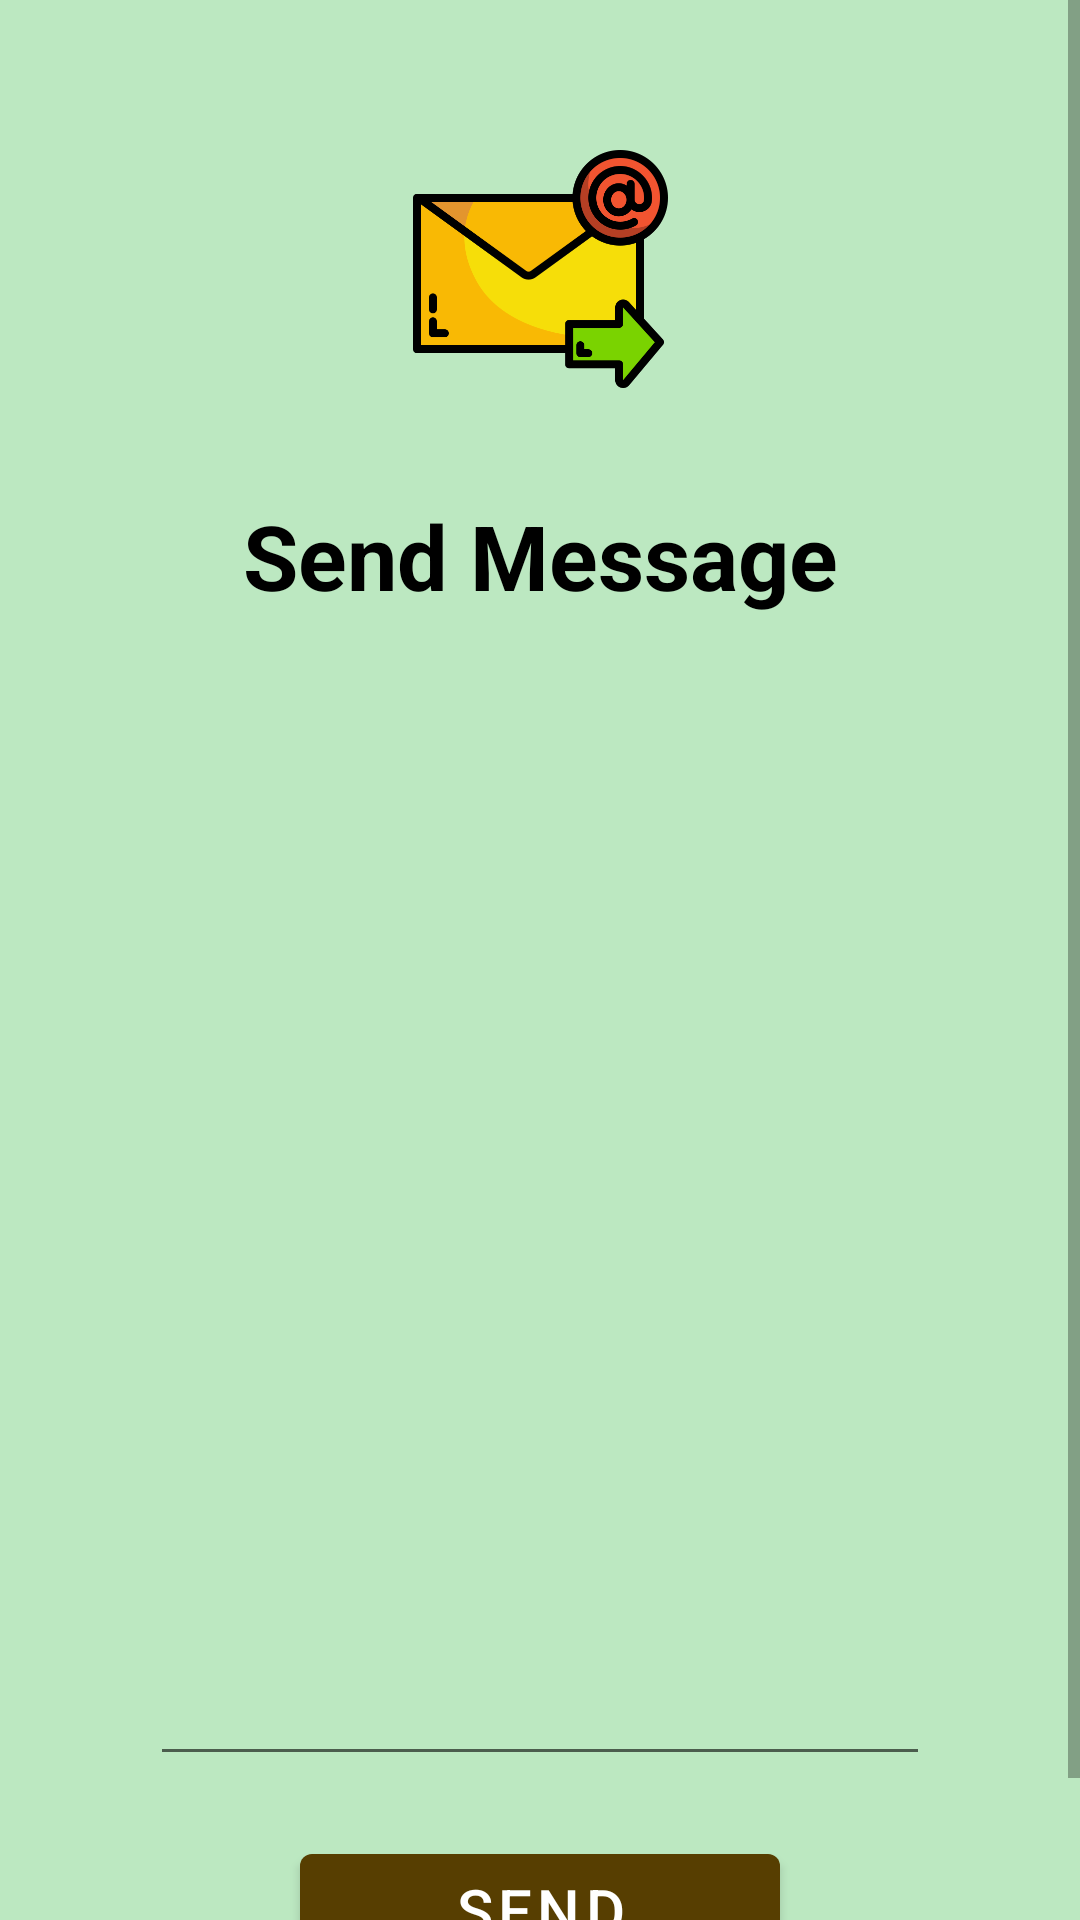

Point at icon controls on the screen. Image size 1080 x 1920, points as point (x, y).
sendmail: point (540, 269)
